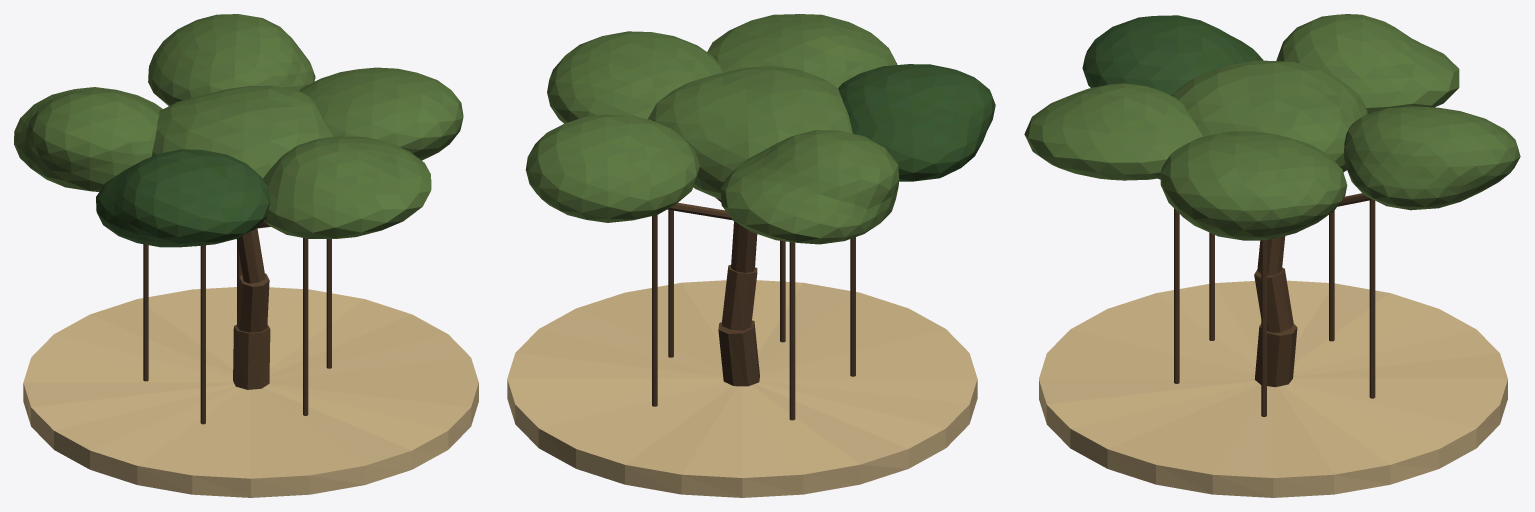
File: stylized_banyan_tree.glb
The picture shows the model from 3 angles, left to right: view 1: azimuth 30°, elevation 25°; view 2: azimuth 150°, elevation 25°; view 3: azimuth 270°, elevation 25°; orthographic projection. The views are drawn at different scales.
Visible parts, largest first — view 1: Ground, Canopy_primary, Canopy_foliage_dark, Trunk, PropRoots; view 2: Ground, Canopy_primary, Canopy_foliage_dark, Trunk, PropRoots, Branches; view 3: Ground, Canopy_primary, Canopy_foliage_dark, PropRoots, Trunk.
Boxes of the visible parts, left/top/right/bottom form: Ground: left=23, top=287, right=478, bottom=497; Canopy_primary: left=14, top=14, right=463, bottom=238; Canopy_foliage_dark: left=96, top=149, right=269, bottom=247; Trunk: left=233, top=228, right=270, bottom=389; PropRoots: left=143, top=238, right=331, bottom=424; Ground: left=507, top=280, right=977, bottom=497; Canopy_primary: left=525, top=14, right=899, bottom=244; Canopy_foliage_dark: left=838, top=64, right=995, bottom=181; Trunk: left=718, top=221, right=759, bottom=386; PropRoots: left=652, top=210, right=855, bottom=420; Branches: left=667, top=198, right=732, bottom=220; Ground: left=1039, top=280, right=1507, bottom=497; Canopy_primary: left=1024, top=14, right=1520, bottom=240; Canopy_foliage_dark: left=1082, top=15, right=1263, bottom=95; PropRoots: left=1174, top=199, right=1375, bottom=416; Trunk: left=1254, top=236, right=1297, bottom=387.
Bounding box in the file's own units: 7.5 × 5.52 × 7.93.
